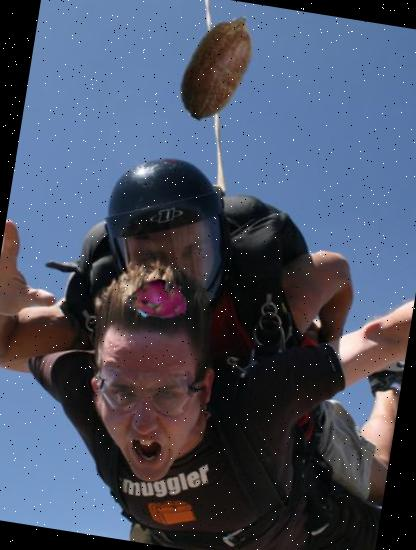Nut: (154, 2, 283, 131)
Pitahaya: (122, 265, 193, 336)
